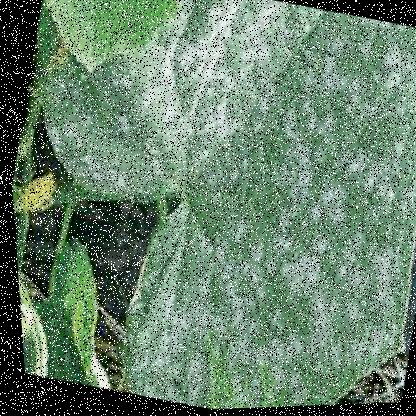PowderyMildew: (161, 26, 415, 411), (127, 0, 324, 209)
